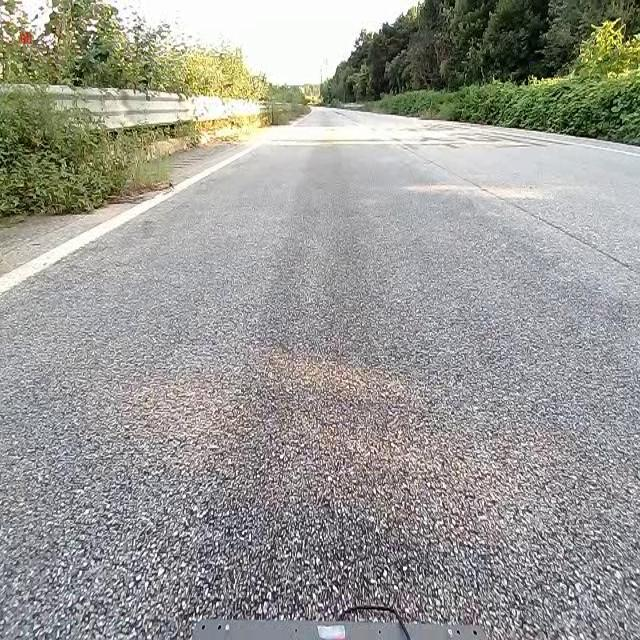Lane: (0, 134, 264, 294), (0, 141, 264, 296)
